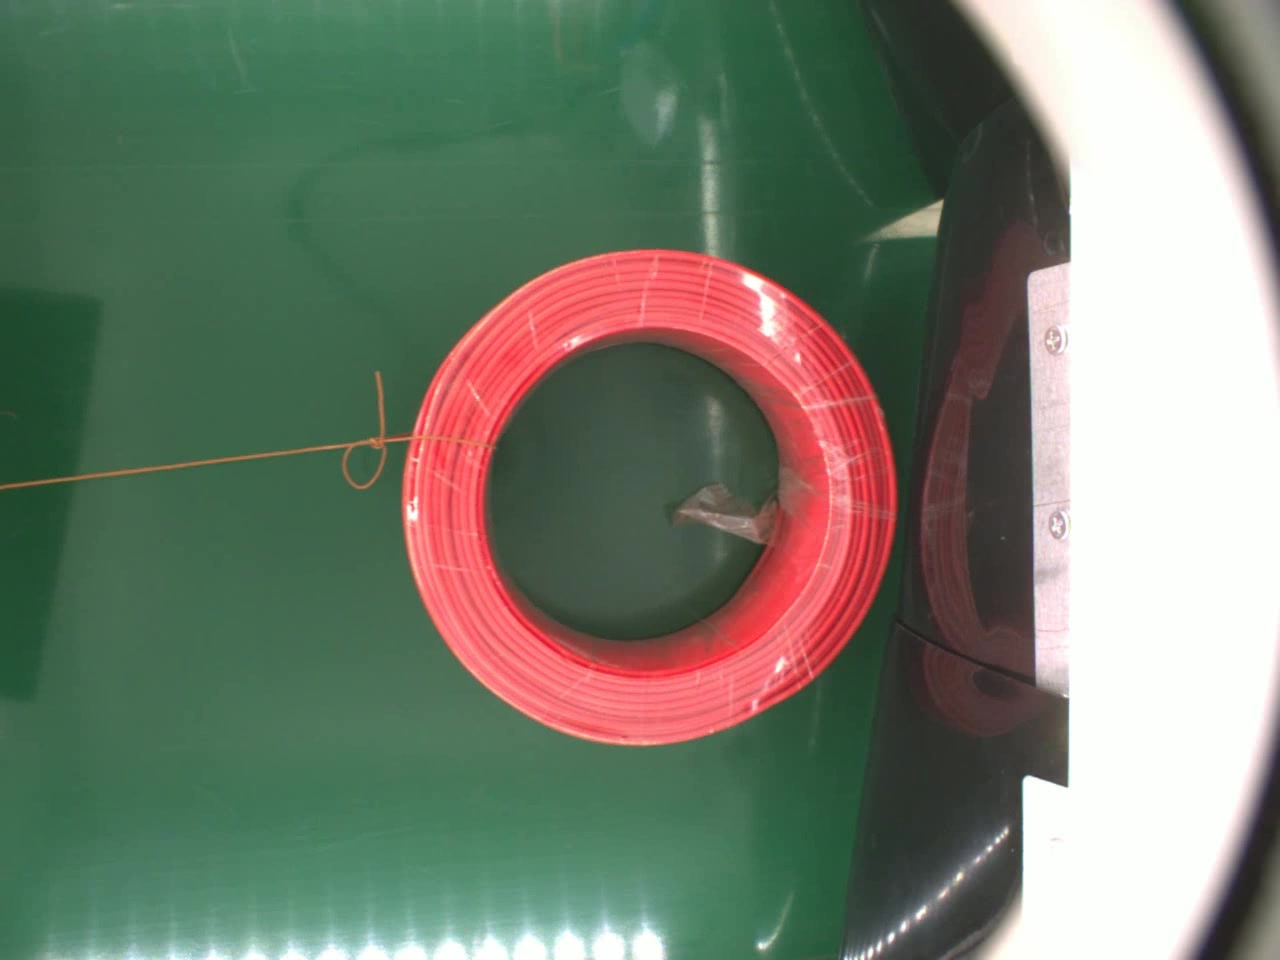red: (395, 242, 906, 751)
